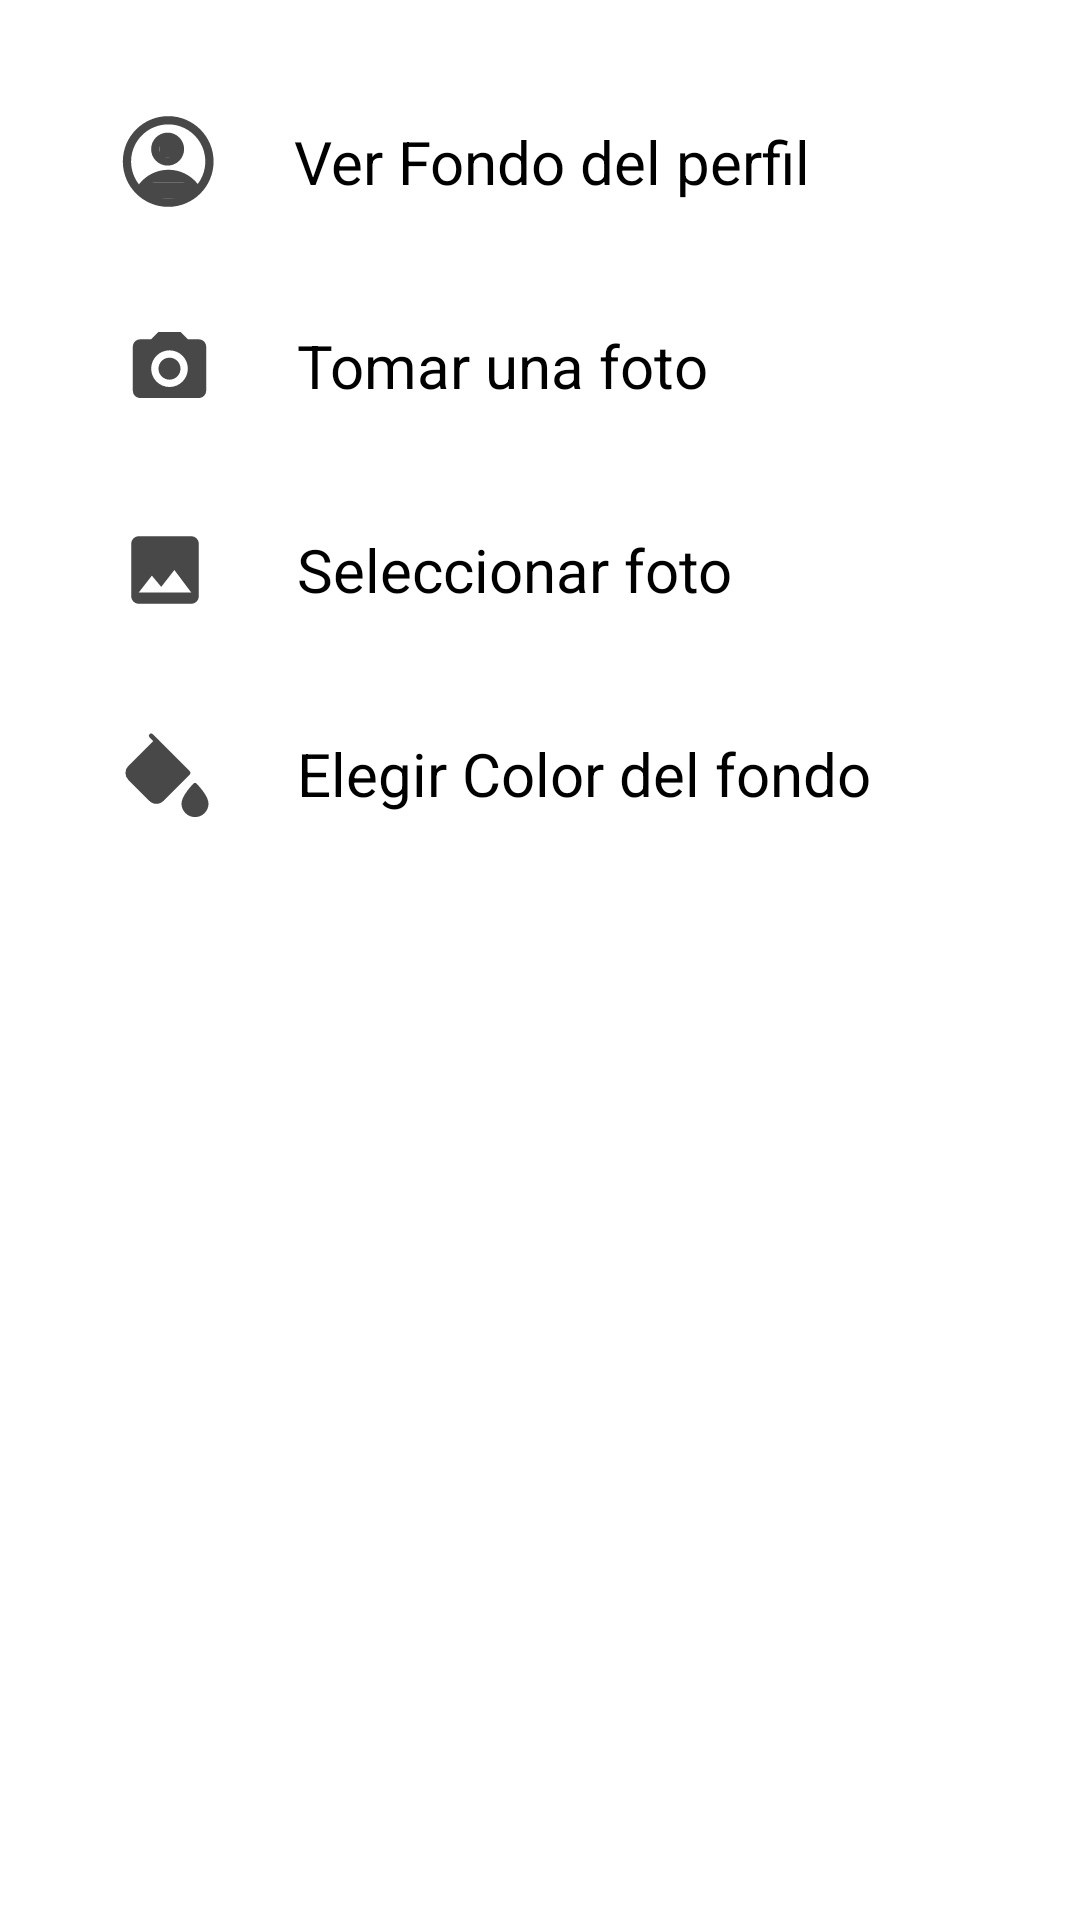

Icon bounding boxes for this 1080px x 1920px phone screenshot, format Rect(x1, y1, x2, y2):
camerabottom: Rect(132, 332, 207, 398)
gallery: Rect(131, 536, 199, 604)
picker: Rect(125, 733, 209, 817)
